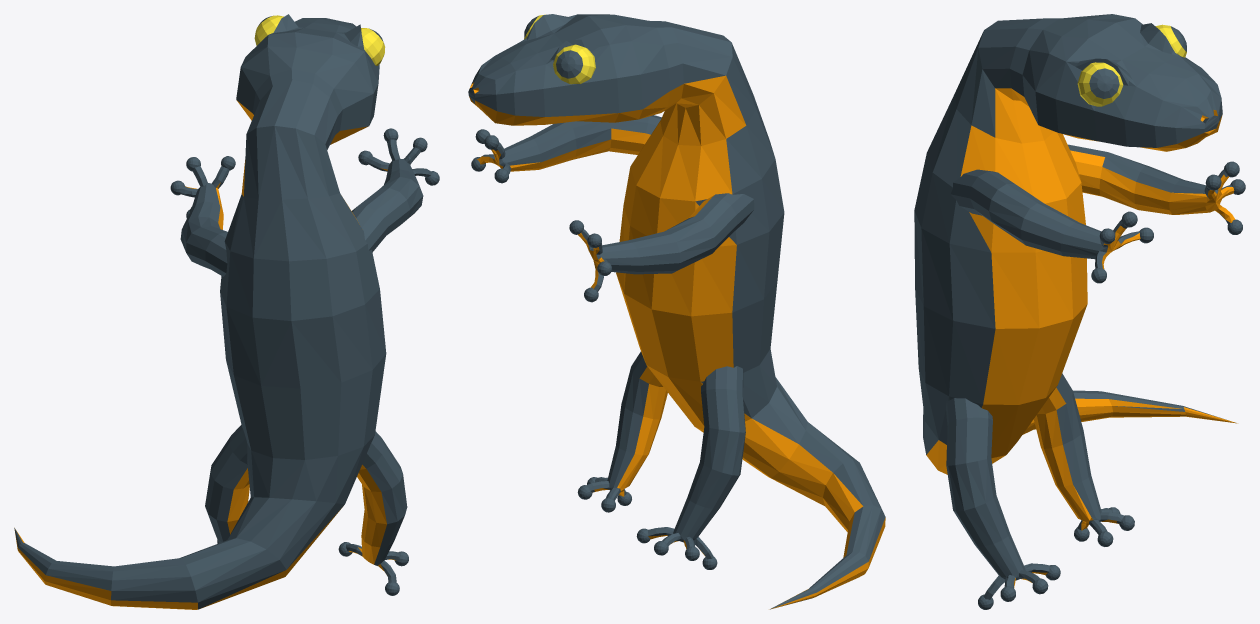
The model's file is newt.glb.
3 renders of one model, left to right at view 1: azimuth 30°, elevation 25°; view 2: azimuth 150°, elevation 25°; view 3: azimuth 270°, elevation 25°, orthographic. The views are drawn at different scales.
Parts seen in each view (by area): view 1: group535469083, group96492099, group1205210047, group975027608, group1418471640, group841389794; view 2: group535469083, group1418471640, group975027608, group1205210047, group96492099, group515132811; view 3: group535469083, group96492099, group1205210047, group975027608, group1418471640, group841389794, group515132811.
Part boxes in pixels (<box>): group535469083: <box>14,14,386,609</box>; group96492099: <box>346,431,407,582</box>; group1205210047: <box>352,139,432,252</box>; group975027608: <box>179,166,229,276</box>; group1418471640: <box>205,425,249,543</box>; group841389794: <box>361,28,385,65</box>; group535469083: <box>468,14,885,609</box>; group1418471640: <box>648,366,745,559</box>; group975027608: <box>578,193,754,291</box>; group1205210047: <box>477,115,661,173</box>; group96492099: <box>586,351,667,500</box>; group515132811: <box>553,44,595,84</box>; group535469083: <box>914,14,1237,474</box>; group96492099: <box>946,398,1049,599</box>; group1205210047: <box>950,169,1140,269</box>; group975027608: <box>1068,144,1235,224</box>; group1418471640: <box>1033,373,1124,534</box>; group841389794: <box>1077,62,1123,106</box>; group515132811: <box>1155,24,1186,57</box>.
Size of the model in its own units: 2.45 by 3.13 by 1.65.
